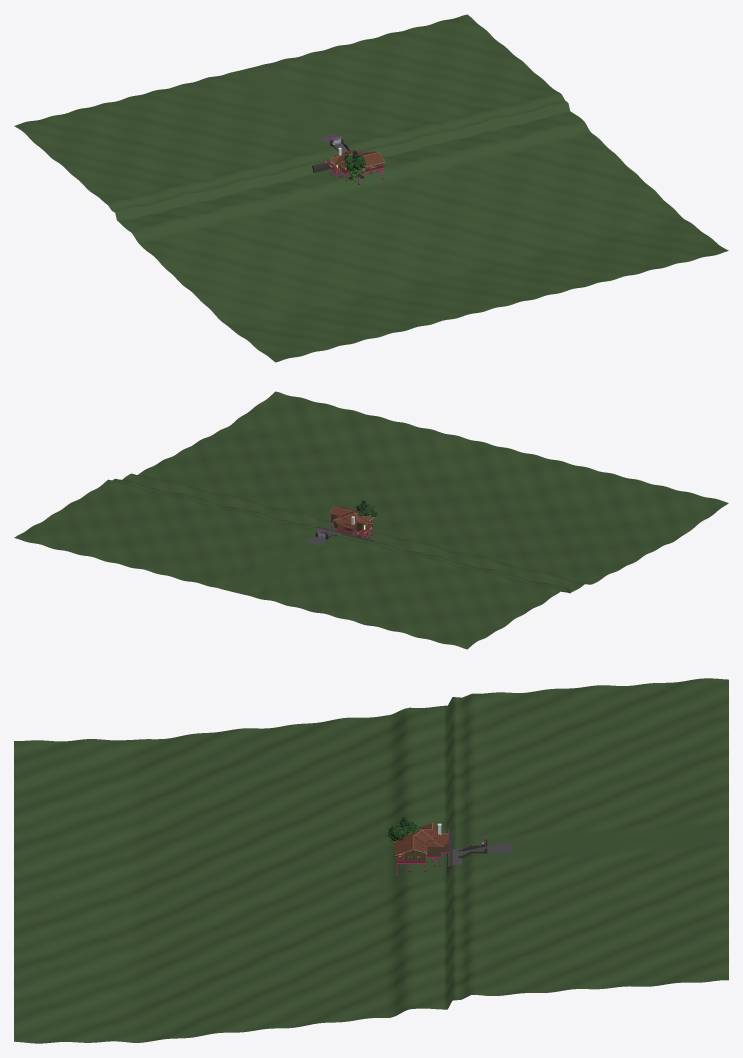
The model's file is quinta.glb.
3 views of the same model, one above another, from view 1: azimuth 30°, elevation 25°; view 2: azimuth 150°, elevation 25°; view 3: azimuth 270°, elevation 25° (orthographic). The views are drawn at different scales.
Visible parts, largest first — view 1: env_ground; view 2: env_ground, house_roof; view 3: env_ground, house_roof.
Boxes of the visible parts, x1,y1,x2,y2 form: env_ground: (14, 14, 728, 362); env_ground: (14, 391, 728, 649); house_roof: (328, 506, 373, 528); env_ground: (14, 678, 728, 1043); house_roof: (394, 823, 448, 855).
Bounding box in the file's own units: 220 × 25.1 × 220.
Materials: 37 (6 with a texture image).
